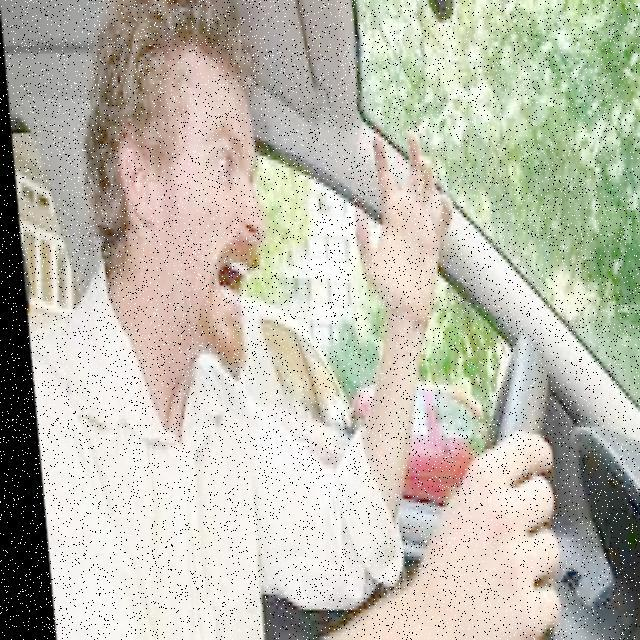noSeatbelt: (21, 296, 330, 640)
